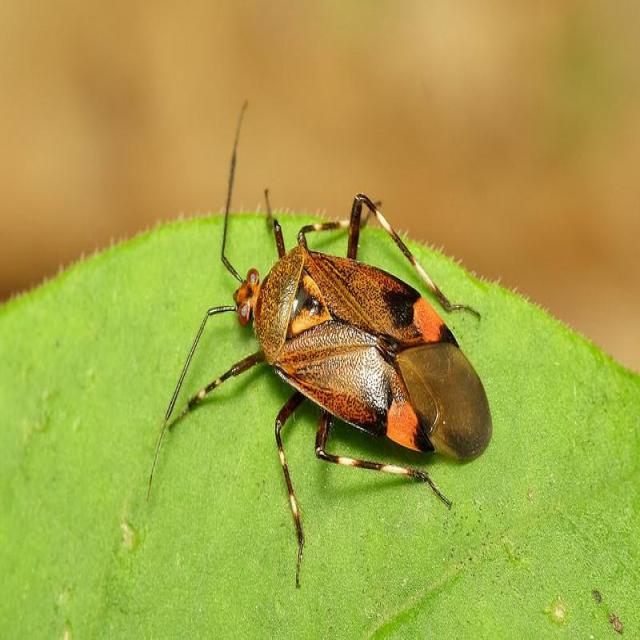Miridae-Adult-: (166, 93, 495, 572)
